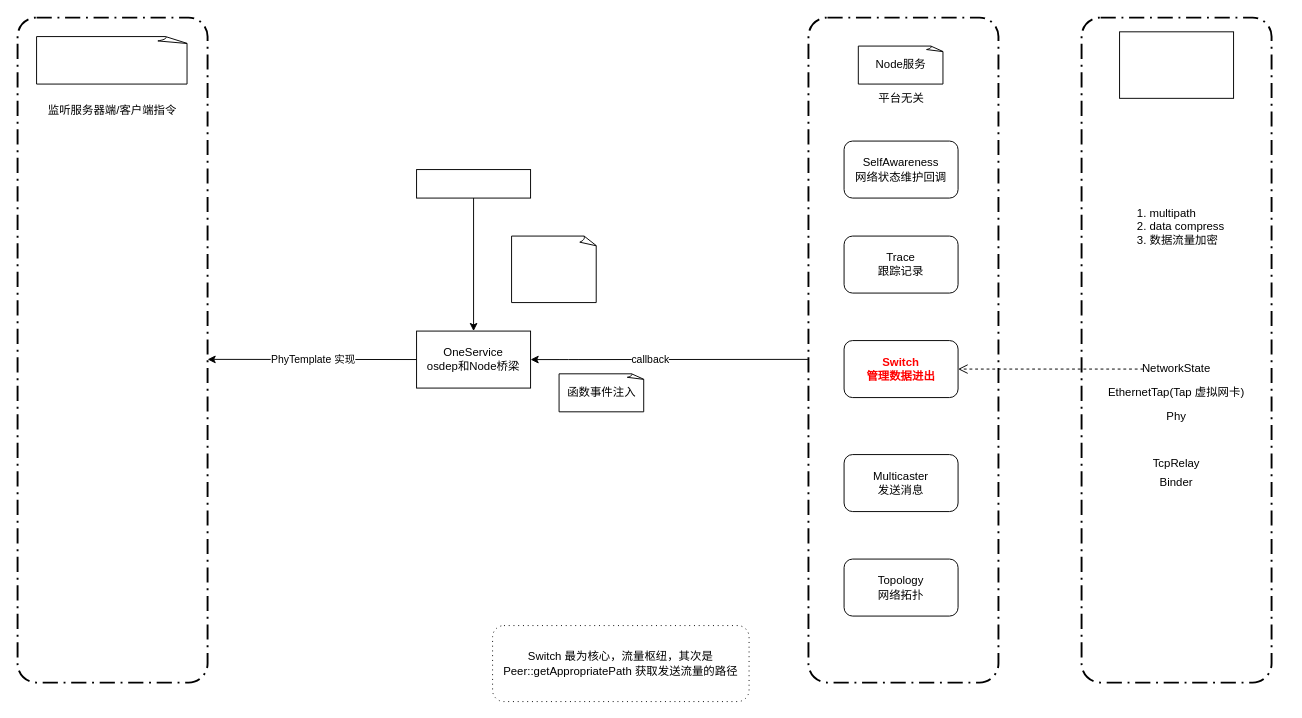
The diagram is 1302 pixels wide and 718 high, and some of its shapes have lost their labels. The box of each missing label's shape, as (x1, y1, x2, y2) in pixels:
Http Handler: (36, 36, 189, 84)
one 客户端: (416, 169, 531, 198)
osdep 各平台专有API 实现: (1119, 31, 1234, 98)
包含所有客户端，主要基于Http 和 OneService通信: (511, 235, 597, 303)
